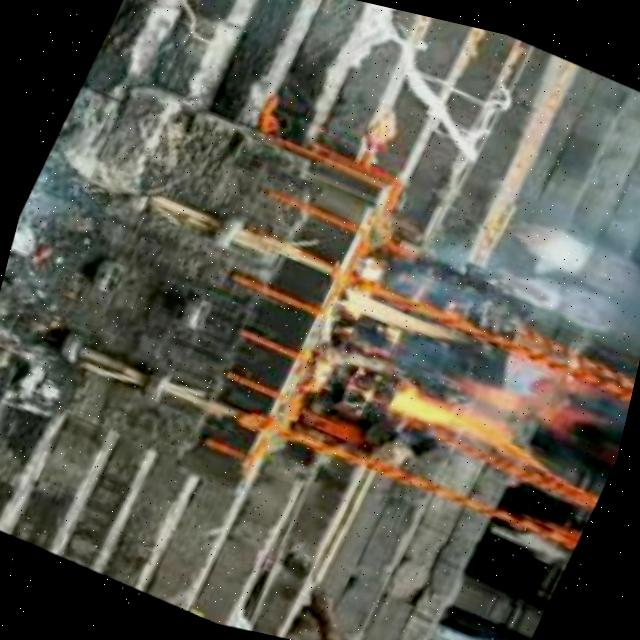fire: (288, 243, 628, 497)
